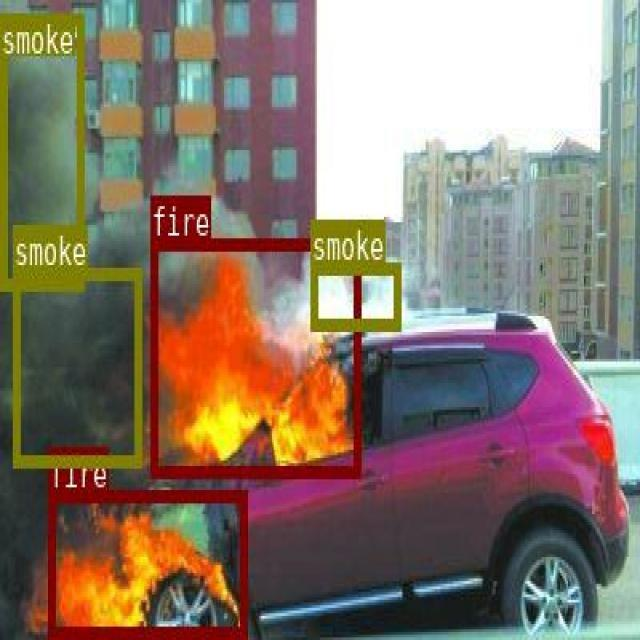fire: (149, 238, 359, 475), (47, 490, 245, 635)
smoke: (12, 265, 141, 464), (0, 12, 82, 288), (310, 260, 399, 328)
